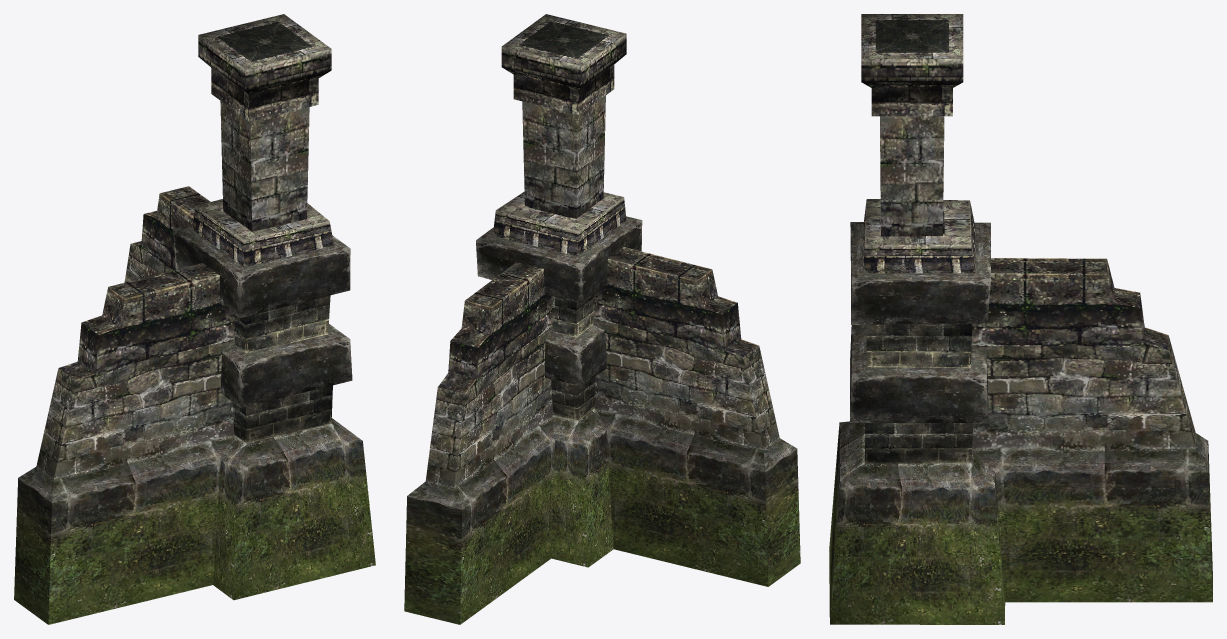
The model's file is OZ_09_mi_wall01A.glb.
The picture shows the model from 3 angles, left to right: view 1: azimuth 30°, elevation 25°; view 2: azimuth 150°, elevation 25°; view 3: azimuth 270°, elevation 25°; orthographic projection. The views are drawn at different scales.
Parts seen in each view (by area): view 1: OM_09_mi_wall01A; view 2: OM_09_mi_wall01A; view 3: OM_09_mi_wall01A.
Part boxes in pixels (bbox=[...]): OM_09_mi_wall01A: bbox=[14, 14, 375, 624]; OM_09_mi_wall01A: bbox=[404, 14, 800, 624]; OM_09_mi_wall01A: bbox=[829, 14, 1212, 624].
Size of the model in its own units: 5.29 by 8.44 by 5.33.
Materials: 2 (2 with a texture image).
